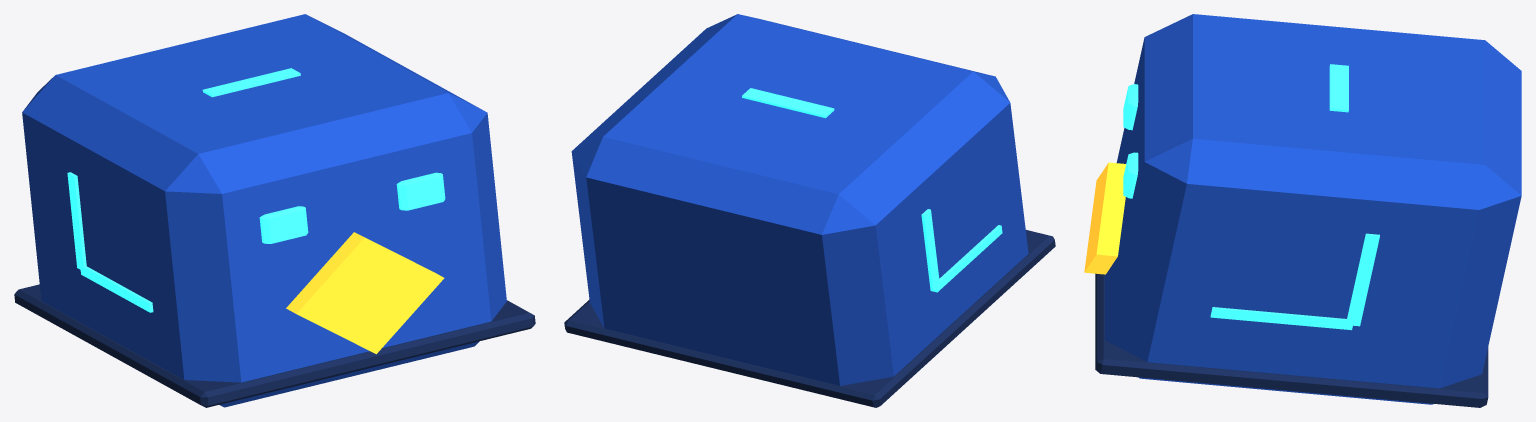
File: cubit_stage4_polluted_rest.glb
3 renders of one model, left to right at view 1: azimuth 30°, elevation 25°; view 2: azimuth 150°, elevation 25°; view 3: azimuth 270°, elevation 25°, orthographic. The views are drawn at different scales.
Visible parts, largest first — view 1: CUBIT_Body, CUBIT_Core, CUBIT_Belt, CUBIT_Markings, CUBIT_Eye_R, CUBIT_Eye_L; view 2: CUBIT_Body, CUBIT_Belt, CUBIT_Markings; view 3: CUBIT_Body, CUBIT_Belt, CUBIT_Markings, CUBIT_Core, CUBIT_Eye_R, CUBIT_Eye_L.
Boxes of the visible parts, box(x1,y1,x2,y2) form: CUBIT_Body: box(22, 14, 506, 407); CUBIT_Core: box(286, 232, 444, 354); CUBIT_Belt: box(14, 284, 535, 407); CUBIT_Markings: box(67, 68, 300, 312); CUBIT_Eye_R: box(396, 172, 445, 210); CUBIT_Eye_L: box(259, 206, 308, 243); CUBIT_Body: box(571, 14, 1028, 385); CUBIT_Belt: box(564, 230, 1055, 407); CUBIT_Markings: box(742, 88, 1002, 292); CUBIT_Body: box(1105, 14, 1521, 404); CUBIT_Belt: box(1095, 273, 1488, 407); CUBIT_Markings: box(1210, 64, 1379, 330); CUBIT_Core: box(1084, 162, 1126, 274); CUBIT_Eye_R: box(1123, 152, 1138, 198); CUBIT_Eye_L: box(1123, 84, 1138, 130).
Bounding box in the file's own units: 0.9462 × 0.703 × 1.05.
